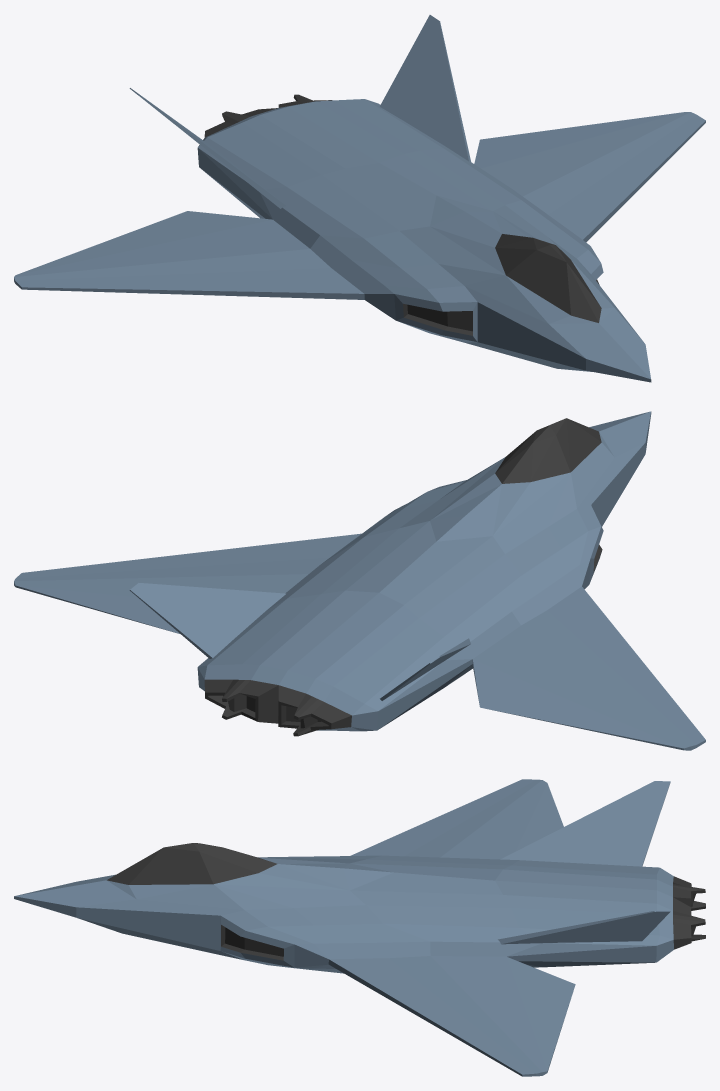
File: Low_Poly_Jet.glb
3 renders of one model, top to bottom at view 1: azimuth 30°, elevation 25°; view 2: azimuth 150°, elevation 25°; view 3: azimuth 270°, elevation 25°, orthographic. The views are drawn at different scales.
Visible parts, largest first — view 1: unnamed (×5); view 2: unnamed (×6); view 3: unnamed (×5).
Part boxes in pixels (x1,y1,x2,y2): unnamed (×5): [14, 15, 705, 382]; unnamed (×6): [14, 411, 705, 750]; unnamed (×5): [14, 779, 705, 1076].
Size of the model in its own units: 7.5 by 1.37 by 7.42.
